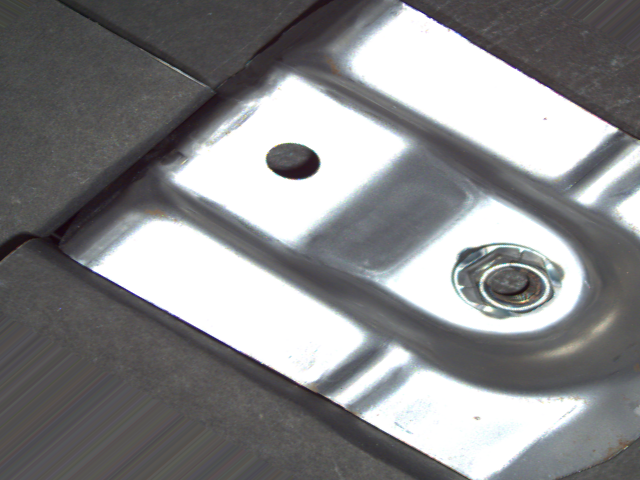good: (449, 239, 568, 324)
